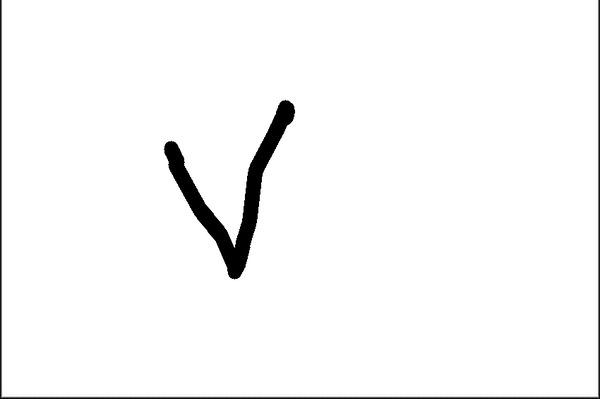V: (158, 93, 308, 279)
